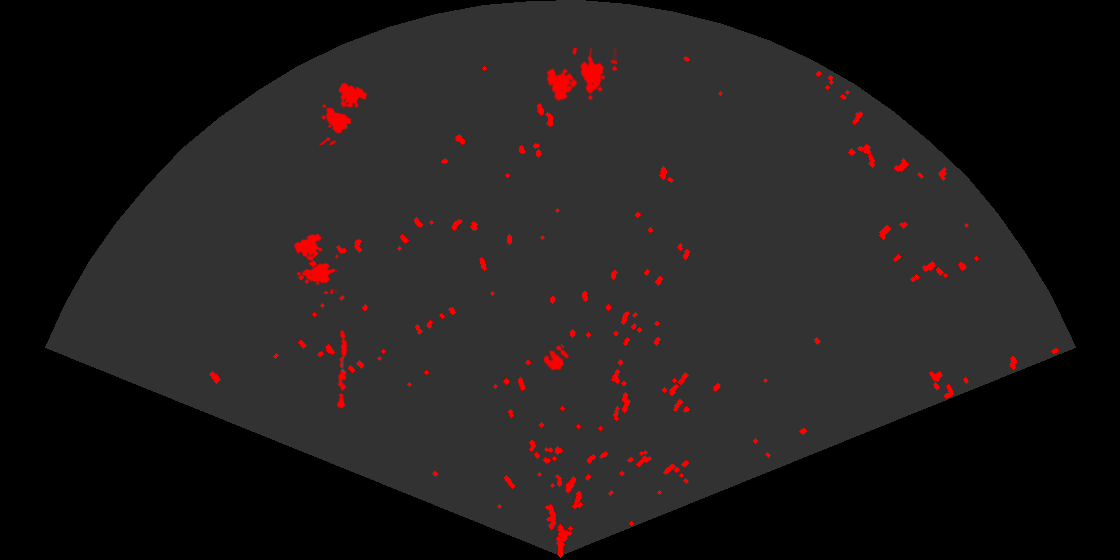ball: (542, 344, 571, 372)
cage: (545, 48, 617, 102), (317, 81, 369, 145), (292, 232, 338, 294)
chain: (335, 328, 349, 409)
